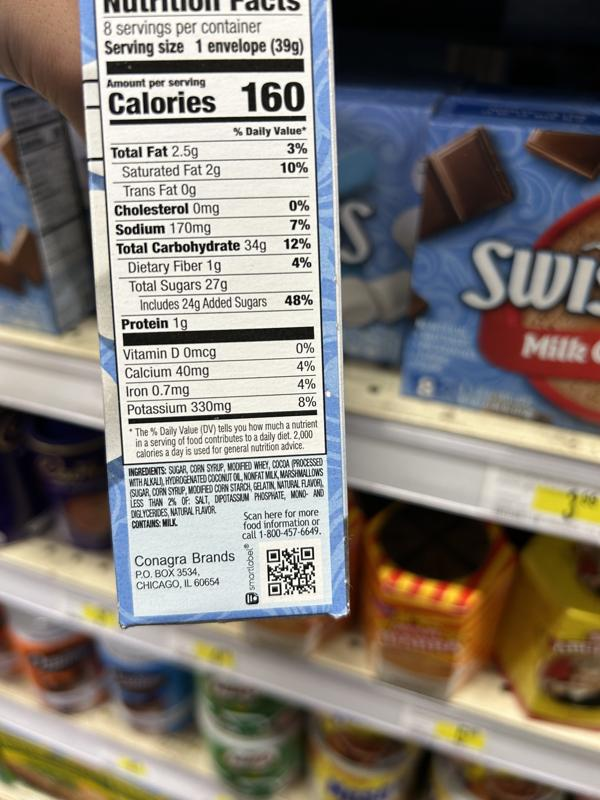ingredients: (126, 455, 327, 518)
